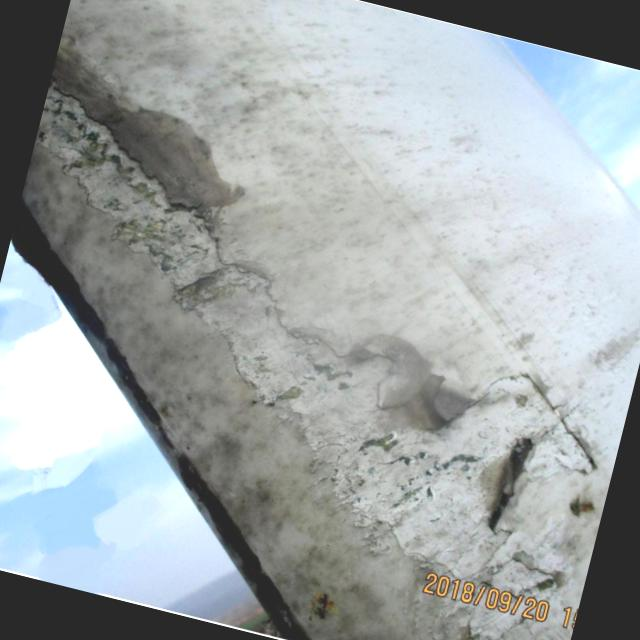corrosion: (352, 338, 606, 599), (164, 252, 401, 482), (12, 88, 234, 284)
